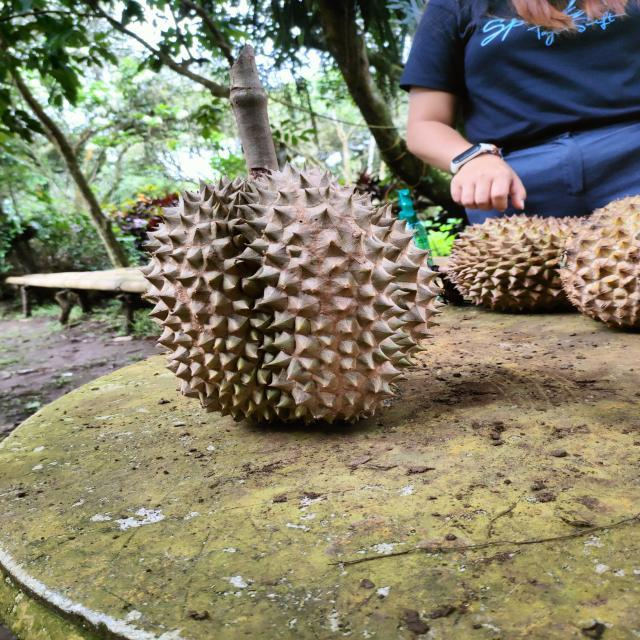mature: (142, 165, 442, 422)
